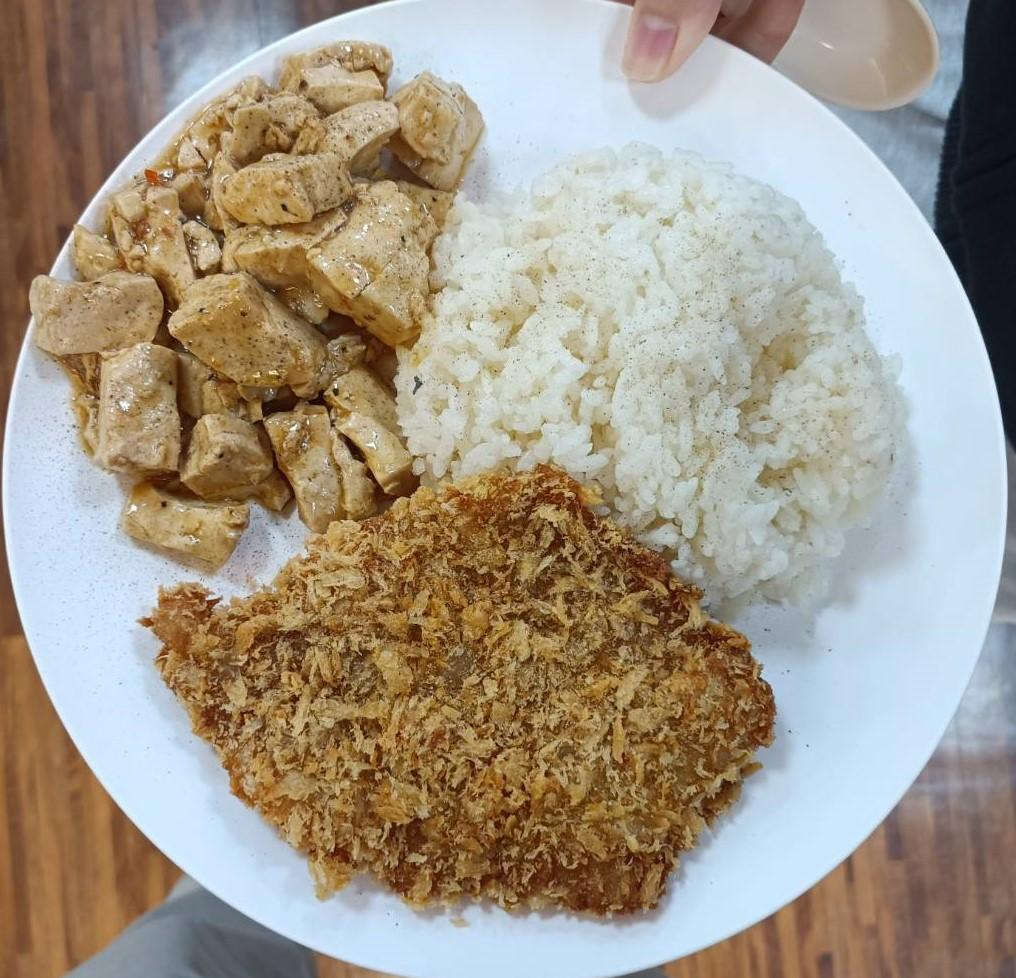big fried chicken leg: (6, 2, 1016, 978)
big herbal chicken leg: (408, 140, 904, 589)
braised fish fillet: (21, 26, 478, 578)
braised pork: (130, 466, 783, 928)
